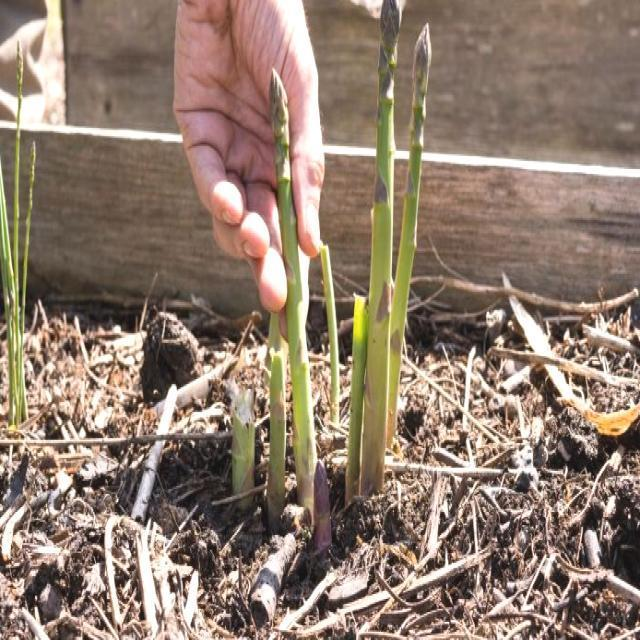aspargus: (363, 0, 406, 496), (270, 70, 316, 505)
